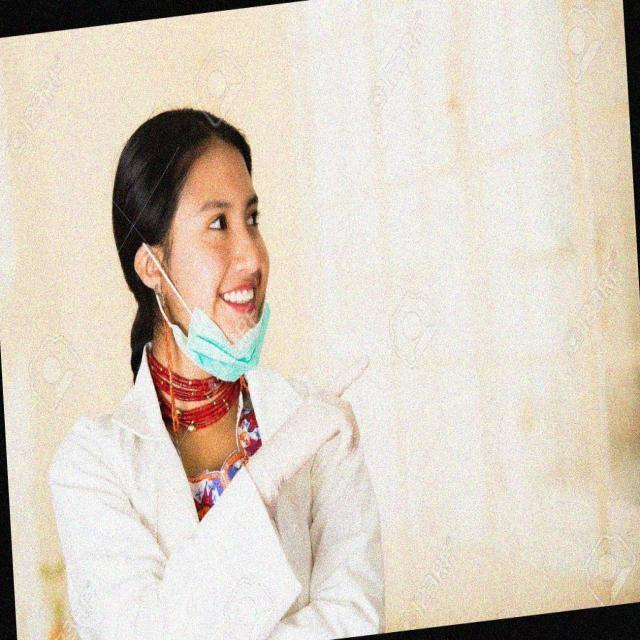hairnet: (146, 177, 276, 376)
